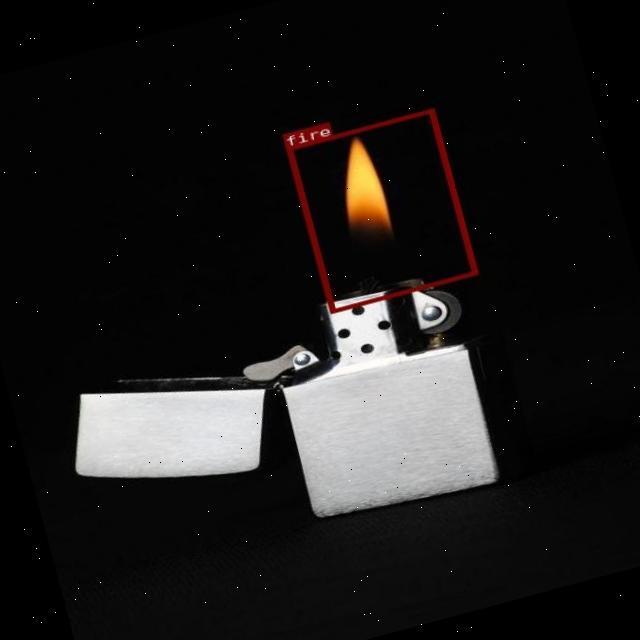fire: (285, 108, 476, 312)
